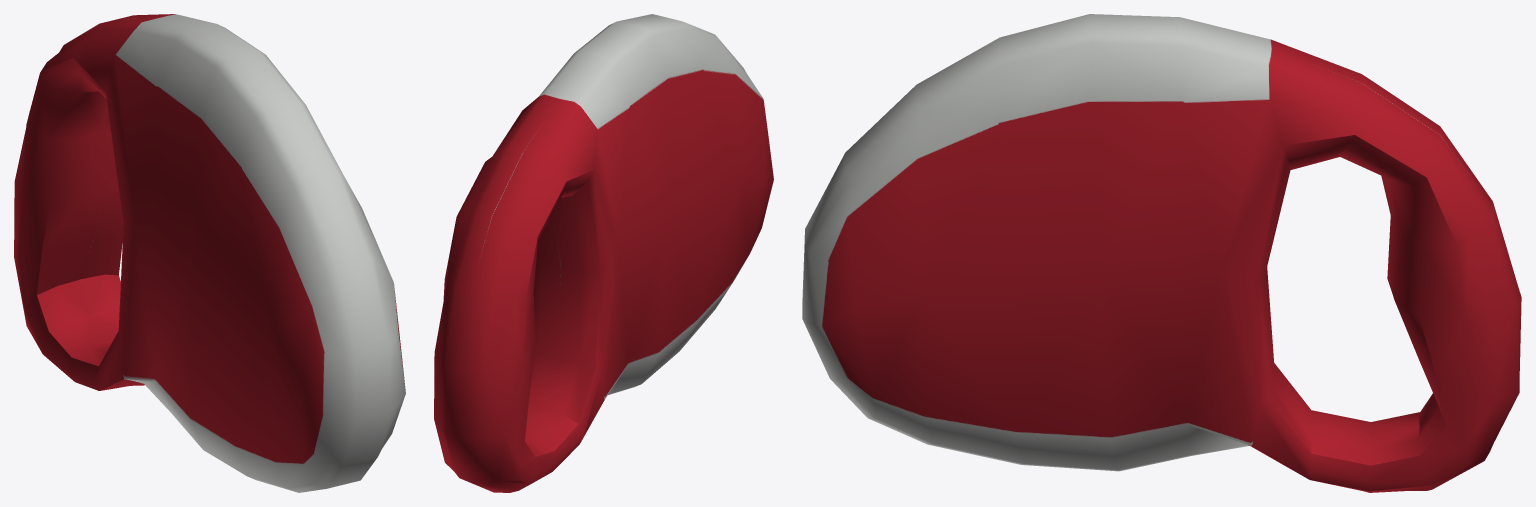
The model's file is Flexiline.fbx.
3 views of the same model, side by side, from view 1: azimuth 30°, elevation 25°; view 2: azimuth 150°, elevation 25°; view 3: azimuth 270°, elevation 25° (orthographic). The views are drawn at different scales.
Parts seen in each view (by area): view 1: FlexiLine; view 2: FlexiLine; view 3: FlexiLine.
Boxes of the visible parts, x1=… form: FlexiLine: x1=14, y1=14, x2=405, y2=492; FlexiLine: x1=434, y1=14, x2=773, y2=492; FlexiLine: x1=802, y1=14, x2=1521, y2=492.
Bounding box in the file's own units: 72.91 × 315 × 445.
Materials: 1 (1 with a texture image).
